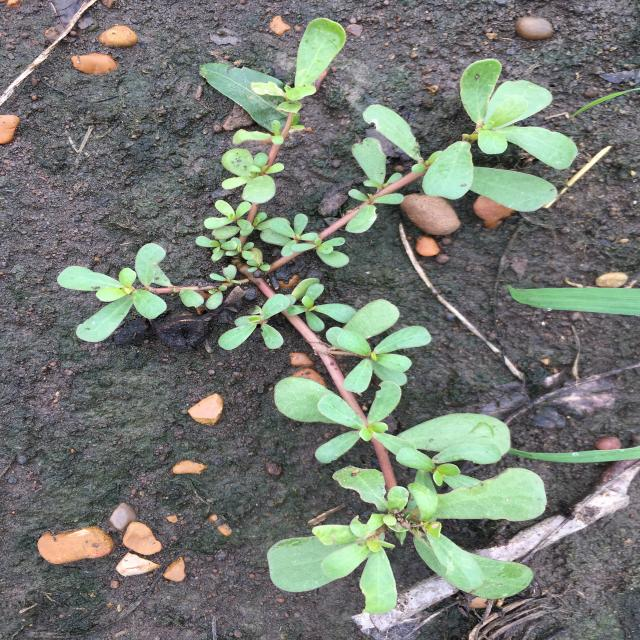Purslane: (56, 19, 579, 614)
